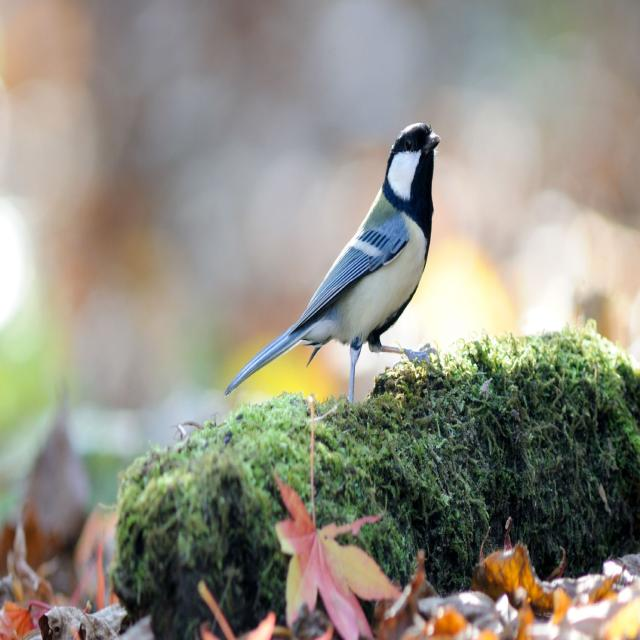bird: (220, 129, 442, 430)
